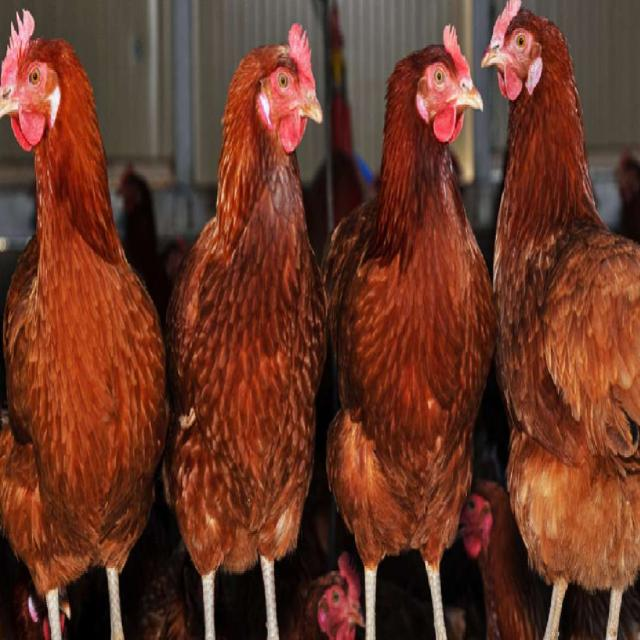Chicken: (160, 7, 330, 640), (330, 8, 500, 640), (0, 7, 159, 640), (488, 1, 640, 640), (302, 547, 373, 640)
